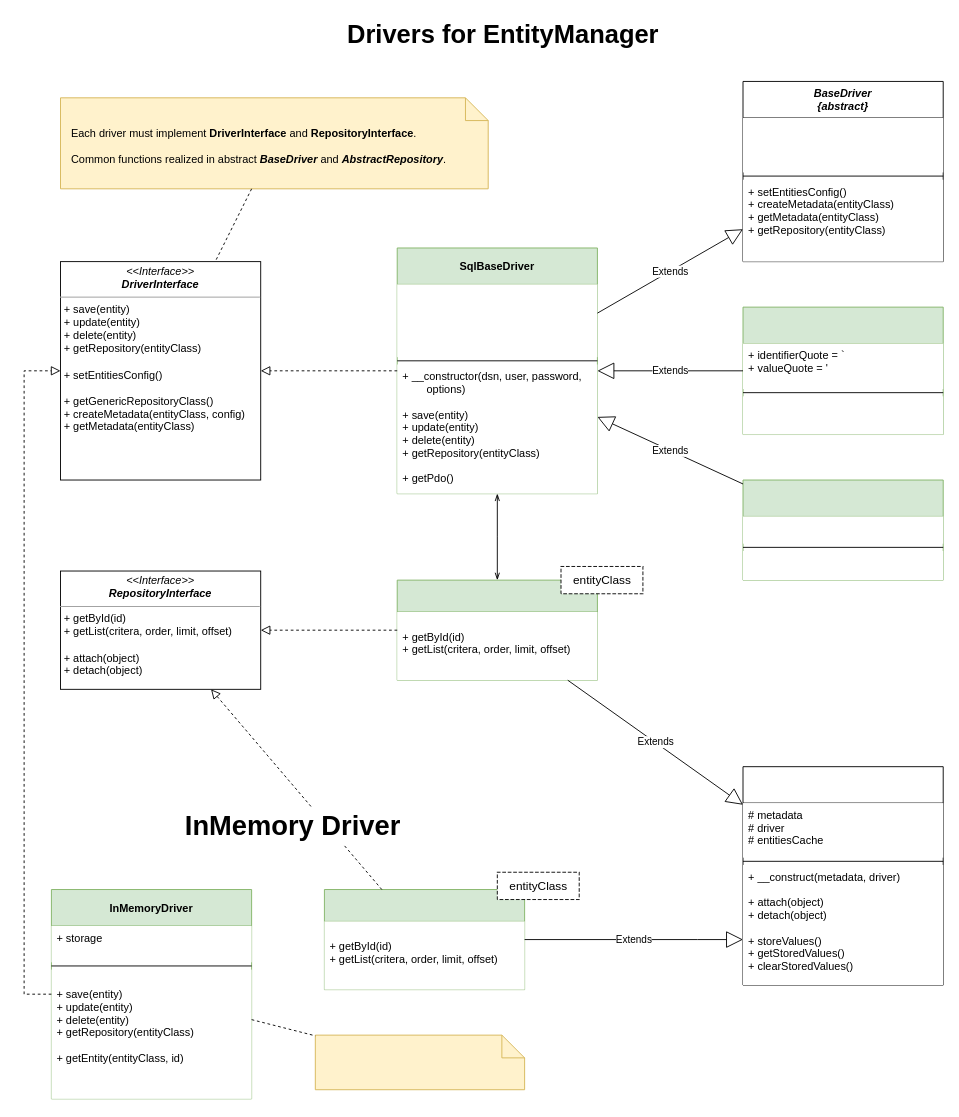
Image size: 959x1117. Some labels were removed from this diagram. Here are the shapes that lost their labels. From the top down, the box of each, then its label:
(743, 117, 943, 172): # entitiesConfig # metaData: array # repositories: array
(397, 284, 597, 357): + identifierQuote = " + valueQuote = ' - pdo
(742, 306, 943, 435): MySqlDriver
(742, 479, 943, 580): PostgresDriver
(396, 579, 597, 680): SqlGenericRepository
(742, 766, 943, 985): AbstractRepository {abstract}
(324, 889, 525, 990): InMemoryGenericRepository
(314, 1034, 525, 1090): InMemoryDriver extends BaseDriver
